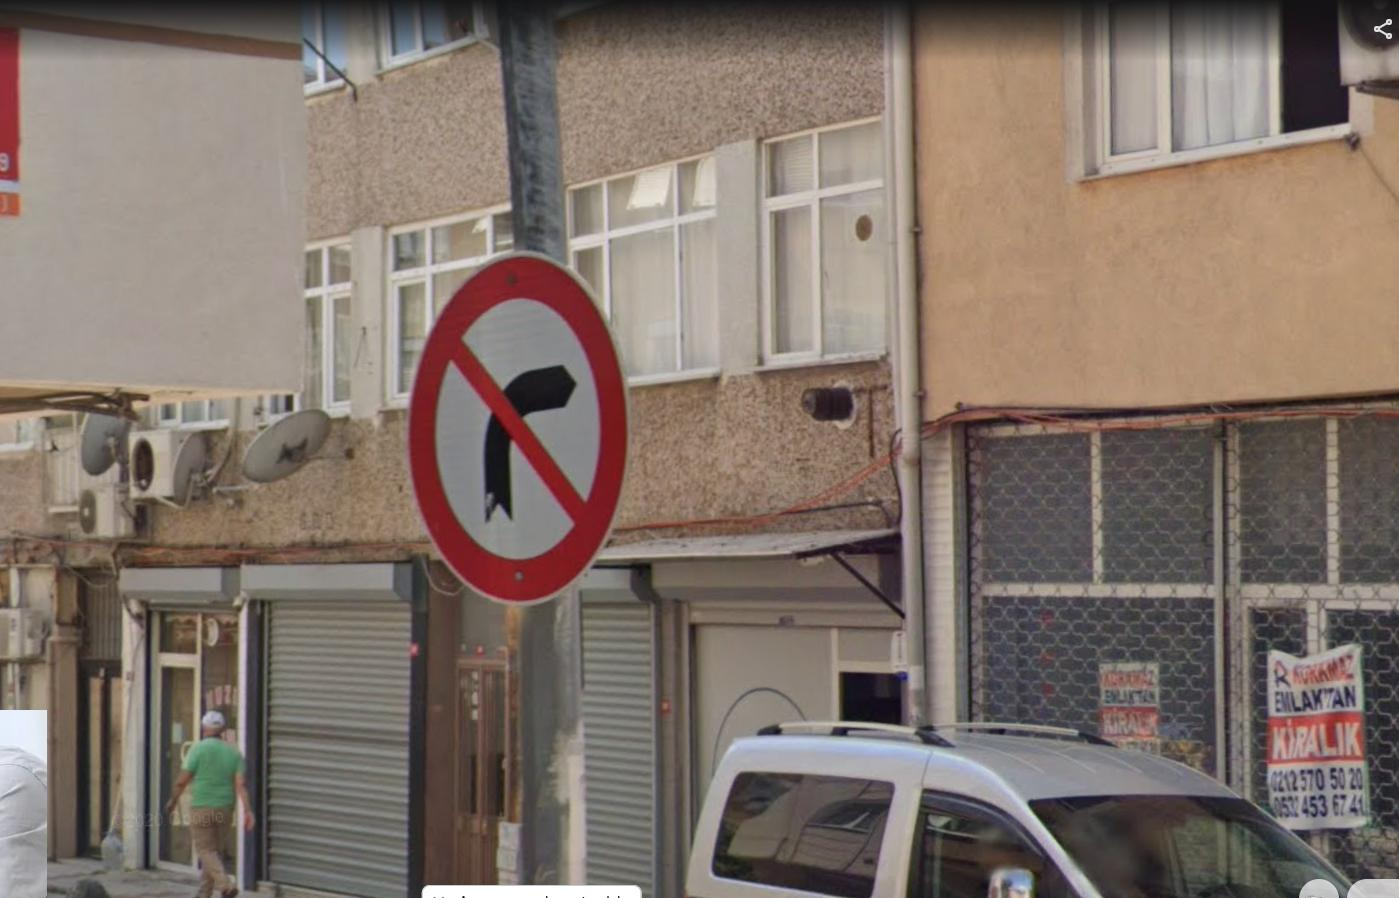rightturnsareforbidden: (414, 260, 628, 597)
